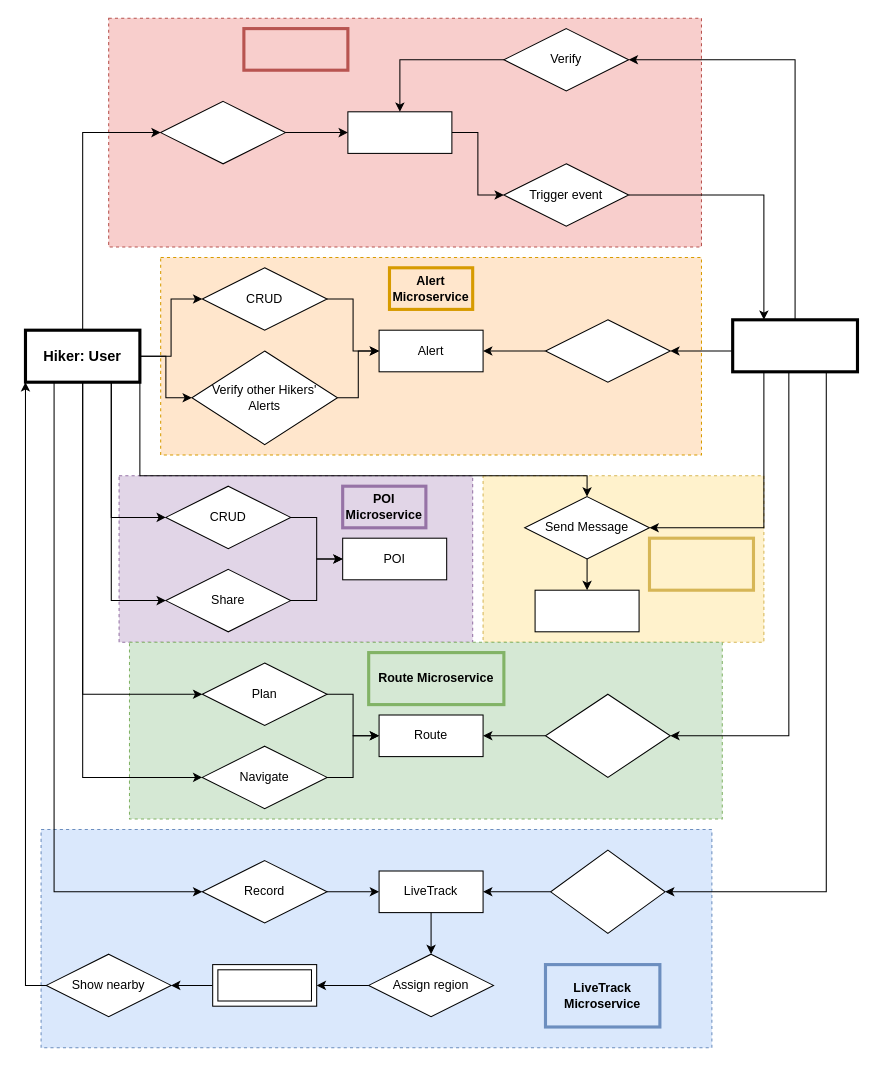
This 877x1066 diagram has some shape labels left out. Each missing label, with the centre of its shape:
"Communication" goes at (x=586, y=610).
"Communication Microservice" goes at (x=701, y=563).
"Monitor" goes at (x=607, y=350).
"Region" goes at (x=264, y=985).
"Rescuer: User" goes at (x=795, y=345).
"Send" goes at (x=222, y=132).
"SOS Alert" goes at (x=399, y=132).
"SOS Microservice" goes at (x=295, y=49).
"View all active Hikers" goes at (x=607, y=891).
"View planned for today" goes at (x=607, y=735).
